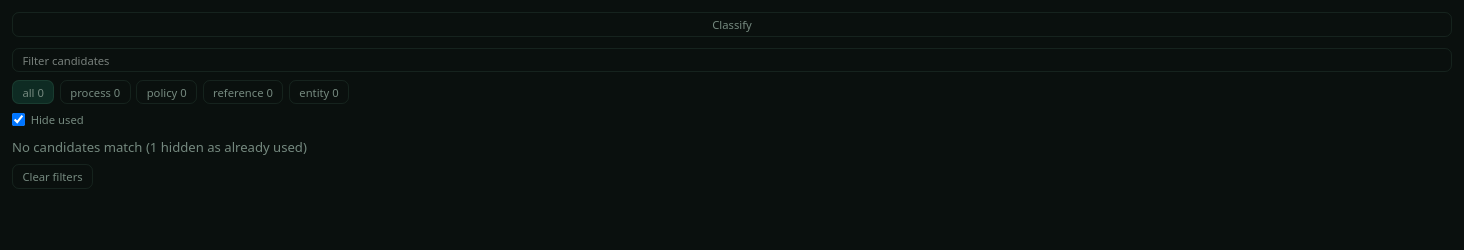
Test case: WikiCandidates › clear filters also resets hide used, and the empty state says why
Expected: the text "No candidates match (1 hidden as already used)" is shown, [12,138,307,157]
Click the button "Clear filters": {"x": 53, "y": 177} [12,164,93,189]
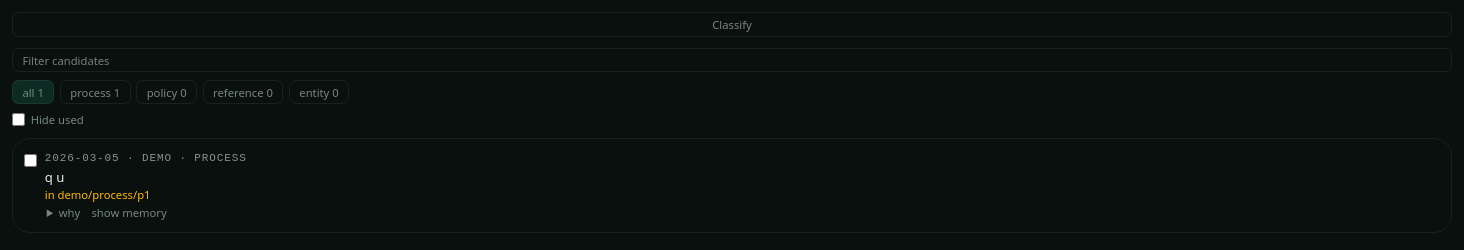
Result: the checkbox named "Select u" is shown at [24,154,37,167]
Result: the checkbox labelled "Hide used" is not checked at [12,113,25,126]
